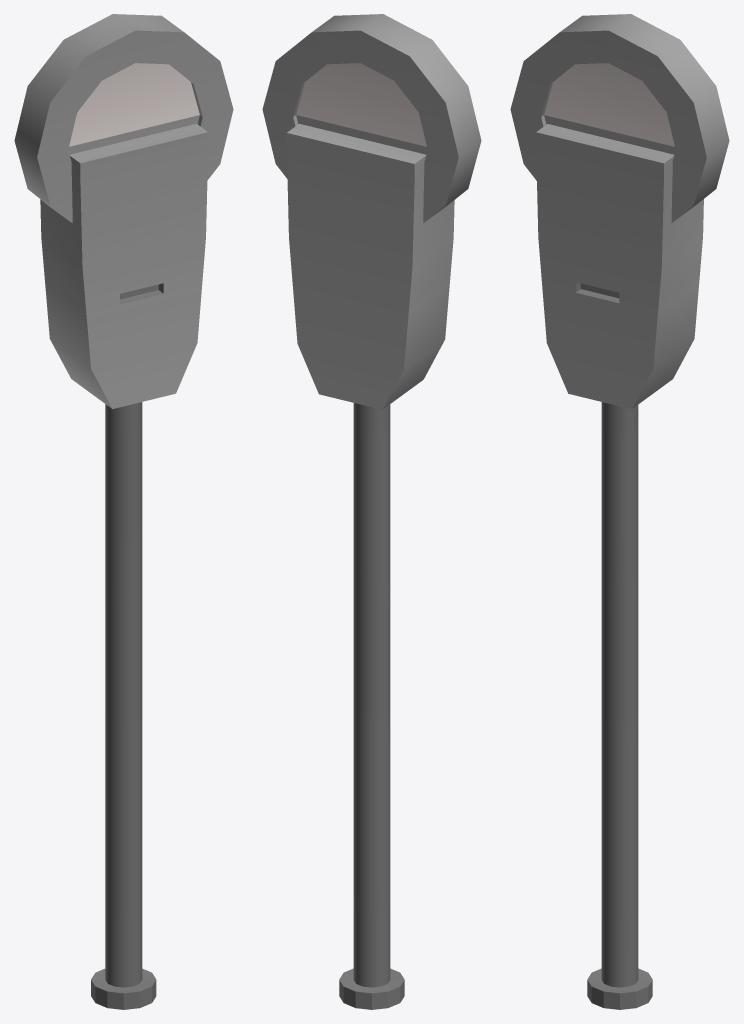
File: SM_Exterior_Parquimetro.fbx
3 renders of one model, left to right at view 1: azimuth 30°, elevation 25°; view 2: azimuth 150°, elevation 25°; view 3: azimuth 330°, elevation 25°, orthographic.
Parts seen in each view (by area): view 1: SM_Exterior_Parquimetro; view 2: SM_Exterior_Parquimetro; view 3: SM_Exterior_Parquimetro.
Boxes of the visible parts, x1=… form: SM_Exterior_Parquimetro: x1=14, y1=14, x2=233, y2=1009; SM_Exterior_Parquimetro: x1=262, y1=14, x2=481, y2=1009; SM_Exterior_Parquimetro: x1=510, y1=14, x2=729, y2=1009.
Bounding box in the file's own units: 44.63 × 211 × 16.23.
